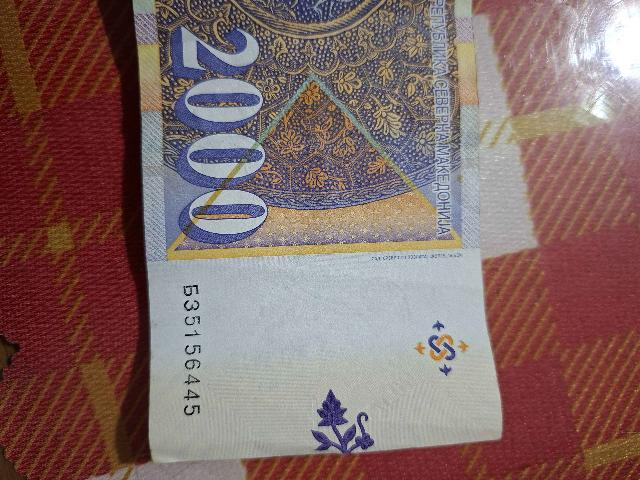note: (136, 0, 506, 459)
